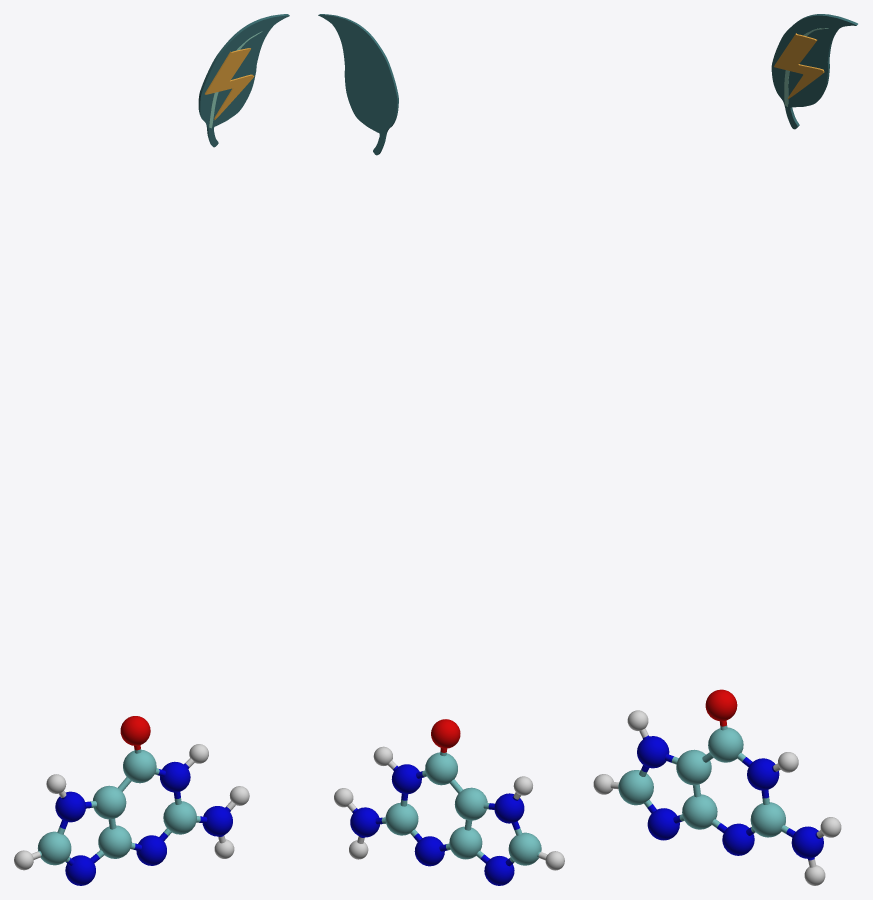
The model's file is guanina.glb.
3 renders of one model, left to right at view 1: azimuth 30°, elevation 25°; view 2: azimuth 150°, elevation 25°; view 3: azimuth 330°, elevation 25°, orthographic. The views are drawn at different scales.
Visible parts, largest first — view 1: guanine, path182, path186; view 2: guanine, path182; view 3: guanine, path182, path186.
Part boxes in pixels (box(x1,y1,x2,y2)): guanine: box(14, 716, 249, 885); path182: box(198, 14, 289, 147); path186: box(205, 48, 254, 119); guanine: box(334, 719, 564, 885); path182: box(318, 14, 398, 155); guanine: box(593, 689, 841, 885); path182: box(771, 14, 857, 129); path186: box(774, 33, 824, 98).
Size of the model in its own units: 1.82 by 5.59 by 0.2596.
